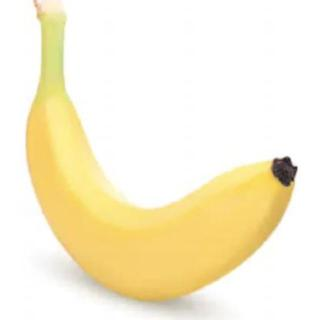banana: (23, 91, 301, 302)
